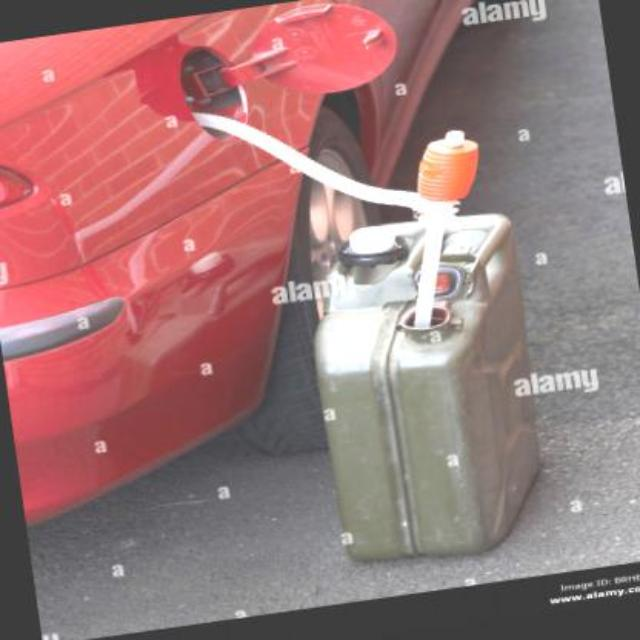chemical_plastic_gallon: (283, 173, 567, 577)
